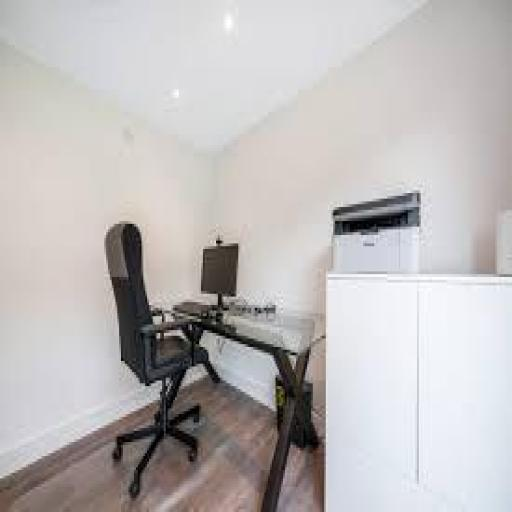chair: (102, 220, 228, 505)
